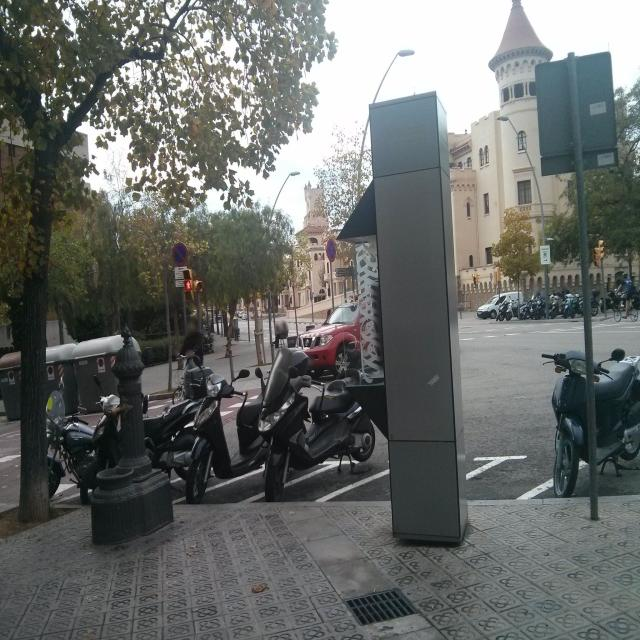forb_stopping: (171, 240, 190, 268)
forb_waiting: (327, 239, 335, 260)
